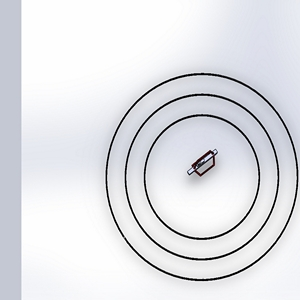circle: (101, 68, 299, 285)
submarine: (181, 141, 227, 192)
